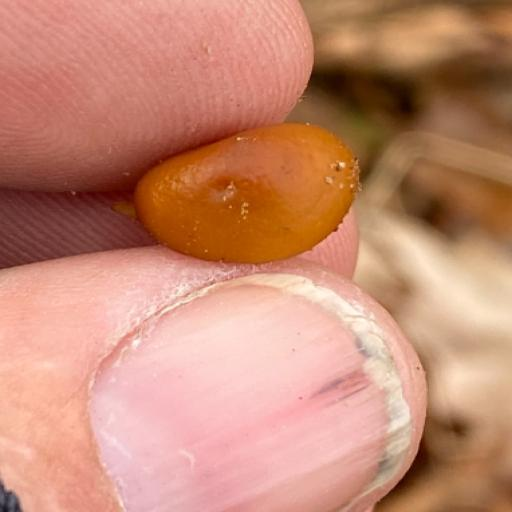mushroom: (131, 112, 372, 277)
